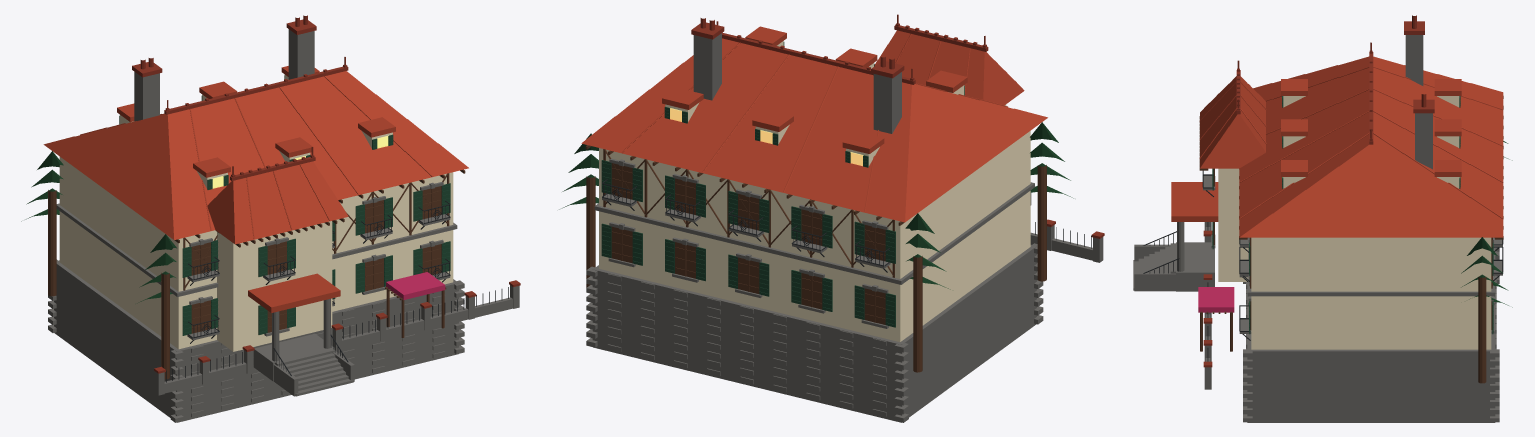
File: fv_thd_09_villa_22_provence.glb
3 renders of one model, left to right at view 1: azimuth 30°, elevation 25°; view 2: azimuth 150°, elevation 25°; view 3: azimuth 270°, elevation 25°, orthographic. The views are drawn at different scales.
Parts seen in each view (by area): view 1: marseille_corrugated_roof_tiles, granite_foundation_and_stairs, stucco_facade_and_dormers, colombage_timber_and_eaves, pine_green_louvered_shutters, ridge_cresting_and_chimneys, wrought_iron_balconies_3d, pine_trees_and_garden_hedges, bougainvillea_pergola_clusters; view 2: marseille_corrugated_roof_tiles, granite_foundation_and_stairs, stucco_facade_and_dormers, colombage_timber_and_eaves, pine_green_louvered_shutters, ridge_cresting_and_chimneys, pine_trees_and_garden_hedges, wrought_iron_balconies_3d; view 3: marseille_corrugated_roof_tiles, stucco_facade_and_dormers, granite_foundation_and_stairs, colombage_timber_and_eaves, ridge_cresting_and_chimneys, bougainvillea_pergola_clusters, wrought_iron_balconies_3d, pine_trees_and_garden_hedges, pine_green_louvered_shutters.
Boxes of the visible parts, x1,y1,x2,y2 form: marseille_corrugated_roof_tiles: (43, 66, 468, 312); granite_foundation_and_stairs: (48, 29, 519, 422); stucco_facade_and_dormers: (59, 74, 453, 351); colombage_timber_and_eaves: (48, 169, 465, 379); pine_green_louvered_shutters: (119, 75, 450, 335); ridge_cresting_and_chimneys: (132, 15, 520, 373); wrought_iron_balconies_3d: (166, 200, 508, 382); pine_trees_and_garden_hedges: (21, 151, 176, 303); bougainvillea_pergola_clusters: (386, 272, 445, 299); marseille_corrugated_roof_tiles: (581, 26, 1047, 222); granite_foundation_and_stairs: (586, 33, 1103, 422); stucco_facade_and_dormers: (599, 41, 1030, 341); colombage_timber_and_eaves: (585, 145, 1046, 372); pine_green_louvered_shutters: (601, 42, 964, 327); ridge_cresting_and_chimneys: (691, 14, 1104, 238); pine_trees_and_garden_hedges: (559, 122, 1073, 289); wrought_iron_balconies_3d: (602, 179, 1091, 272); marseille_corrugated_roof_tiles: (1171, 56, 1503, 237); stucco_facade_and_dormers: (1218, 96, 1491, 349); granite_foundation_and_stairs: (1133, 35, 1502, 422); colombage_timber_and_eaves: (1199, 96, 1503, 383); ridge_cresting_and_chimneys: (1203, 15, 1434, 367); bougainvillea_pergola_clusters: (1198, 287, 1234, 312); wrought_iron_balconies_3d: (1143, 170, 1503, 361); pine_trees_and_garden_hedges: (1461, 141, 1512, 307); pine_green_louvered_shutters: (1212, 96, 1493, 334).
Size of the model in its own units: 25.43 by 19.43 by 23.25.
